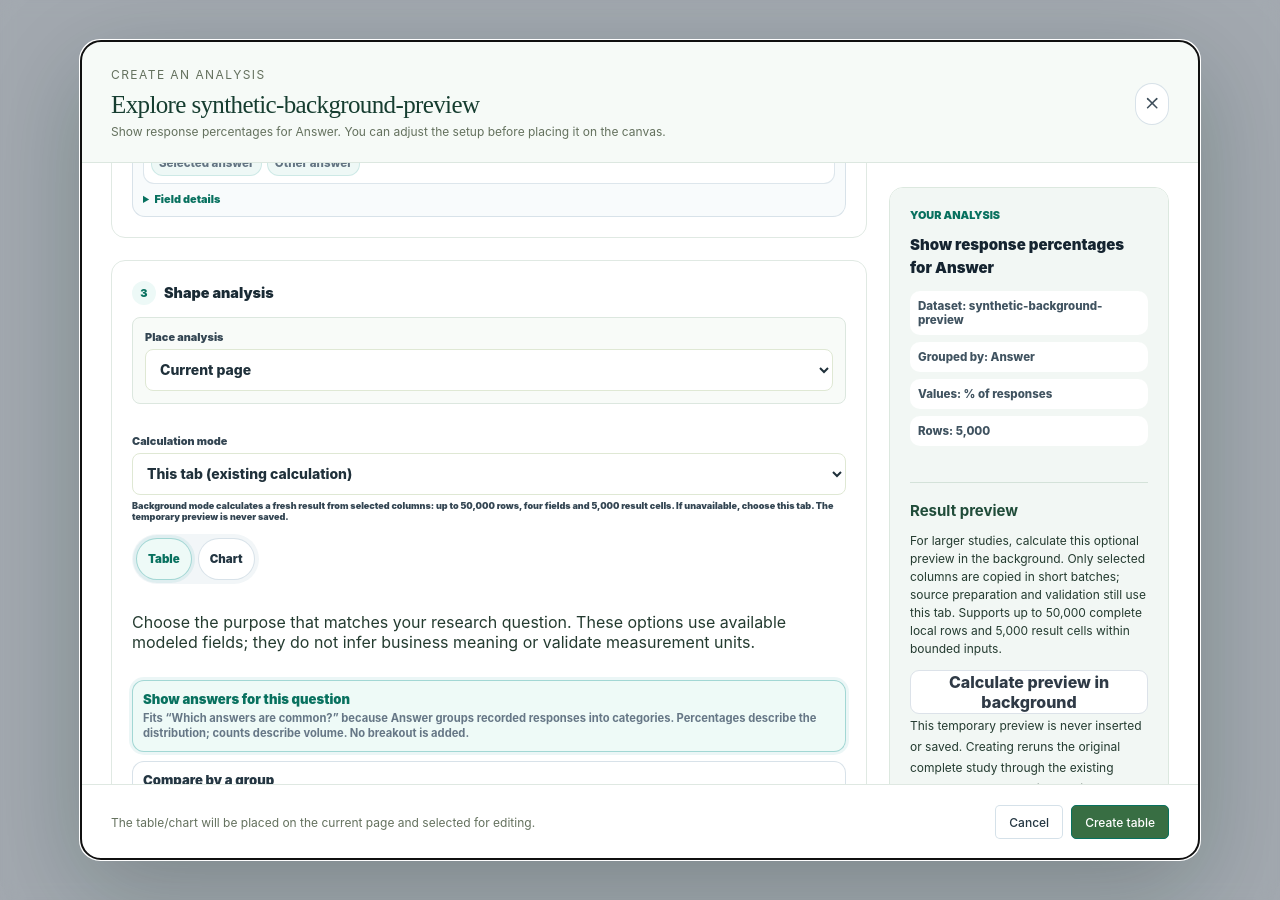
Test case: rejects source mutation while calculating and keeps the retryable setup
The image size is (1280, 900).
(page scrolled)
Select "Background worker with cancel" in the 2nd dropdown at (489, 474), box [132,453,846,495]
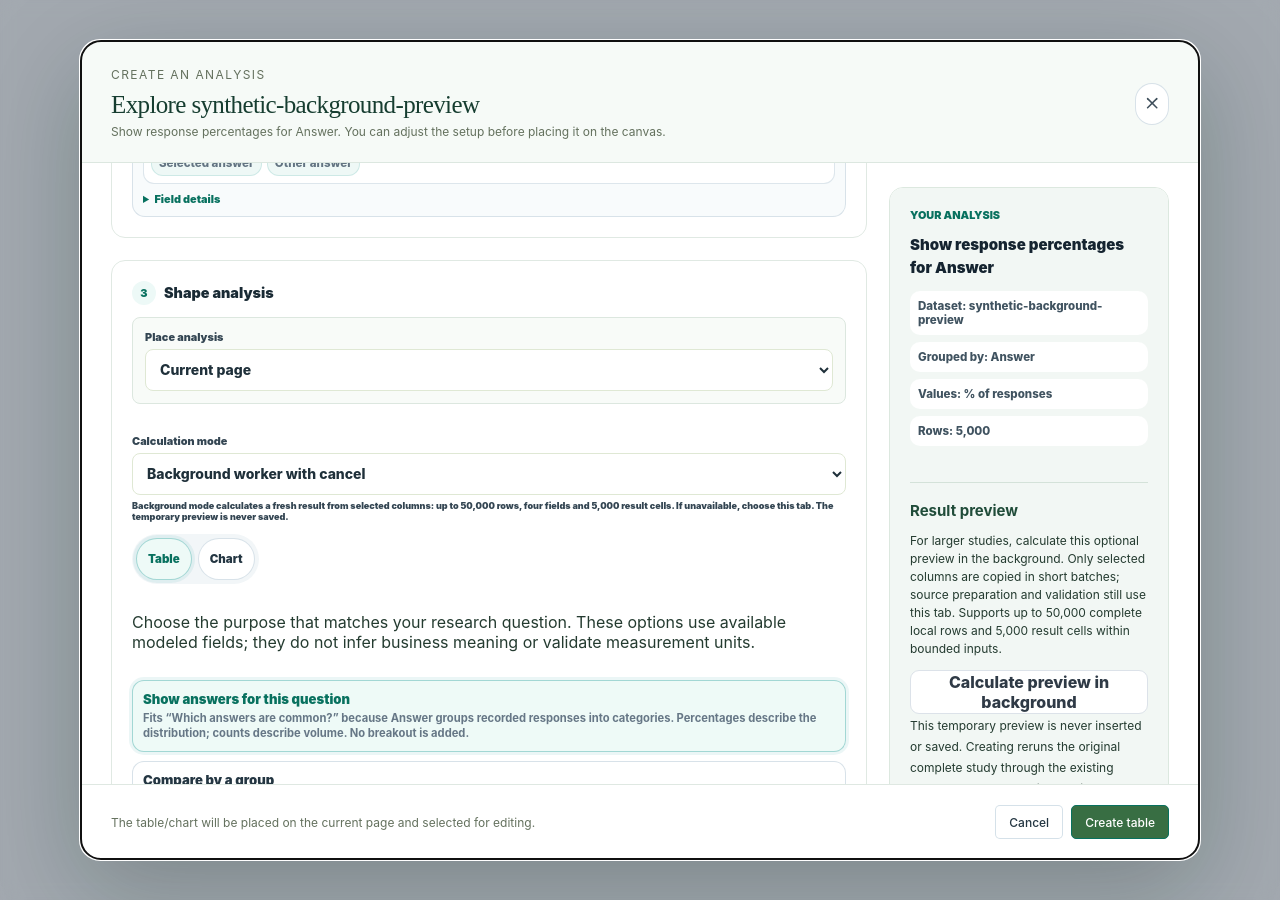
Click the button "Create table".
click(1120, 822)  # box [1071,805,1169,839]
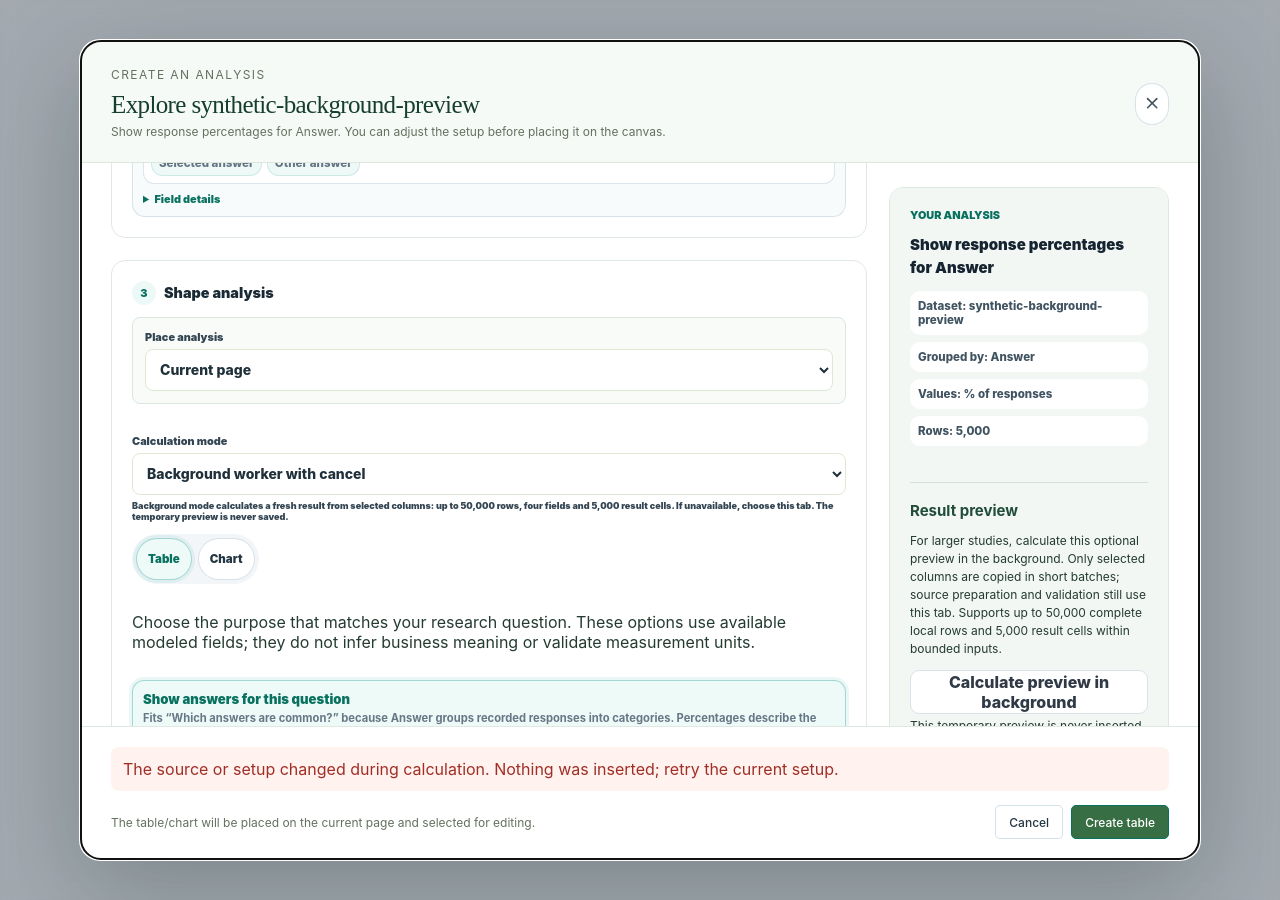
Expected: the text "source or setup changed" is shown, [123,759,839,779]
